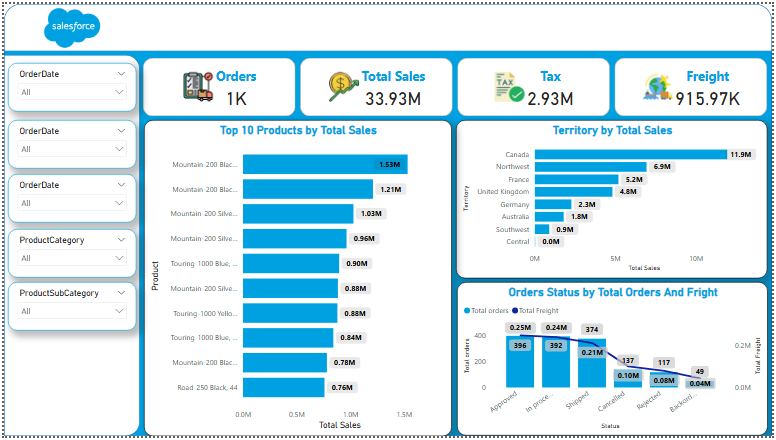

The dashboard page shown, as its layout file describes it:
{"tool":"powerbi","page":{"name":"Main","canvas":[1280,720],"ordinal":1},"visuals":[{"type":"shape","box":[0,0,1280,719.8],"z":0},{"type":"cardVisual","fields":{"Data":["_Table_Measures.Total_orders","_Table_Measures.Total_Sales","_Table_Measures.Total_Tax","_Table_Measures.Total_Freight"]},"box":[226.6,84.6,1053.4,108],"z":1000},{"type":"shape","box":[0,0,1280,78.8],"z":2000},{"type":"shape","box":[0,85,226.2,635],"z":3000},{"type":"image","box":[22.5,0,181.2,78.8],"z":4000},{"type":"clusteredBarChart","title":"Territory by Total Sales","fields":{"Category":["Dim_Territory.Territory"],"Y":["_Table_Measures.Total_Sales"]},"box":[753.8,192.6,519.4,263.6],"z":5000},{"type":"clusteredBarChart","title":"Top 10 Products by Total Sales","fields":{"Category":["Dim_product.Product"],"Y":["_Table_Measures.Total_Sales"]},"box":[233.4,192.6,512.6,527.2],"z":6000},{"type":"lineStackedColumnComboChart","title":"Orders Status by Total Orders And Fright","fields":{"Category":["Dim_Status.Status"],"Y":["_Table_Measures.Total_orders"],"Y2":["_Table_Measures.Total_Freight"]},"box":[754.8,464,518.4,255.8],"z":7000},{"type":"slicer","fields":{"Values":["Fact Sales.OrderDate.Variation.Date Hierarchy.Year"]},"box":[5.8,98.2,214,80.7],"z":8000},{"type":"slicer","fields":{"Values":["Fact Sales.OrderDate.Variation.Date Hierarchy.Quarter"]},"box":[5.8,192.6,214,80.7],"z":9000},{"type":"slicer","fields":{"Values":["Fact Sales.OrderDate.Variation.Date Hierarchy.Month"]},"box":[5.8,284,214,80.7],"z":10000},{"type":"slicer","fields":{"Values":["Dim_product.ProductCategory"]},"box":[5.8,375.4,214,80.7],"z":11000},{"type":"slicer","fields":{"Values":["Dim_product.ProductSubCategory"]},"box":[5.8,464,214,80.7],"z":12000}]}

Visuals, with their boxes in screenshot pixels (x1, y1, x2, y2), scaled from the page's 1280x720 canvas onto the 776x440 screenshot:
shape: box(0, 0, 775, 439)
cardVisual - _Table_Measures.Total_orders x _Table_Measures.Total_Sales: box(137, 52, 775, 118)
shape: box(0, 0, 775, 48)
shape: box(0, 52, 137, 439)
image: box(14, 0, 123, 48)
"Territory by Total Sales" clusteredBarChart: box(457, 118, 772, 279)
"Top 10 Products by Total Sales" clusteredBarChart: box(141, 118, 452, 439)
"Orders Status by Total Orders And Fright" lineStackedColumnComboChart: box(458, 284, 772, 439)
slicer - Fact Sales.OrderDate.Variation.Date Hierarchy.Year: box(4, 60, 133, 109)
slicer - Fact Sales.OrderDate.Variation.Date Hierarchy.Quarter: box(4, 118, 133, 167)
slicer - Fact Sales.OrderDate.Variation.Date Hierarchy.Month: box(4, 174, 133, 223)
slicer - Dim_product.ProductCategory: box(4, 229, 133, 279)
slicer - Dim_product.ProductSubCategory: box(4, 284, 133, 333)
